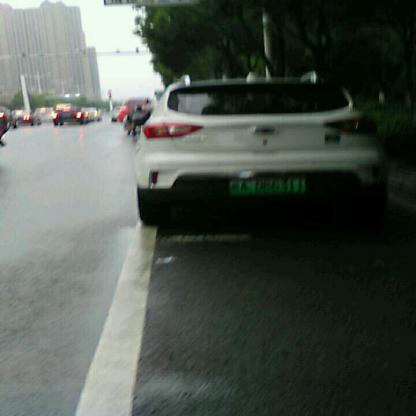lp: (230, 177, 304, 193)
